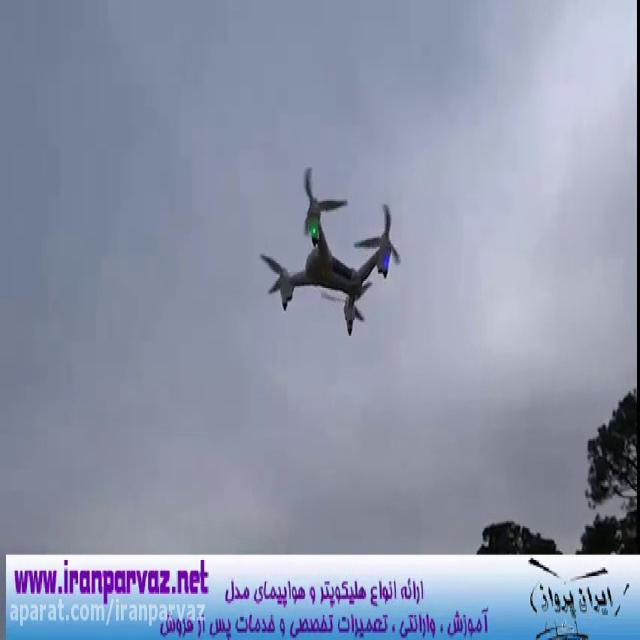drone: (255, 158, 404, 340)
